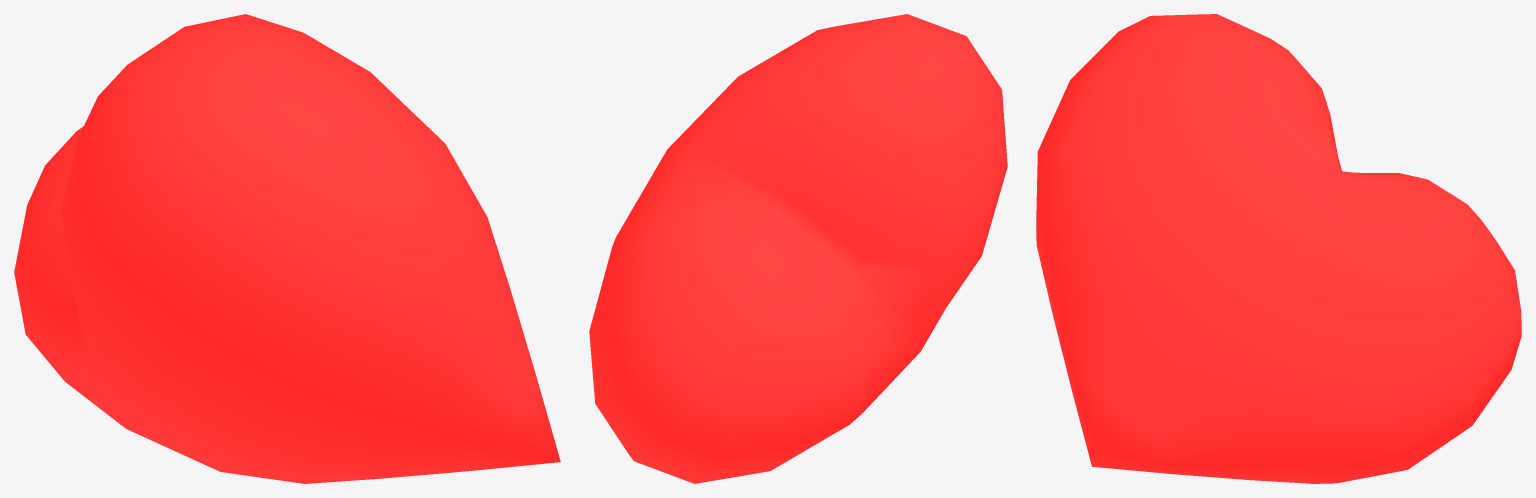
Rendered from heard1.glb.
The picture shows the model from 3 angles, left to right: view 1: azimuth 30°, elevation 25°; view 2: azimuth 150°, elevation 25°; view 3: azimuth 270°, elevation 25°; orthographic projection. The views are drawn at different scales.
Visible parts, largest first — view 1: Sphere; view 2: Sphere; view 3: Sphere.
Part boxes in pixels (bbox=[...]): Sphere: bbox=[14, 14, 560, 483]; Sphere: bbox=[589, 14, 1007, 483]; Sphere: bbox=[1036, 14, 1521, 483].
Bounding box in the file's own units: 10.83 × 12.67 × 14.07.
